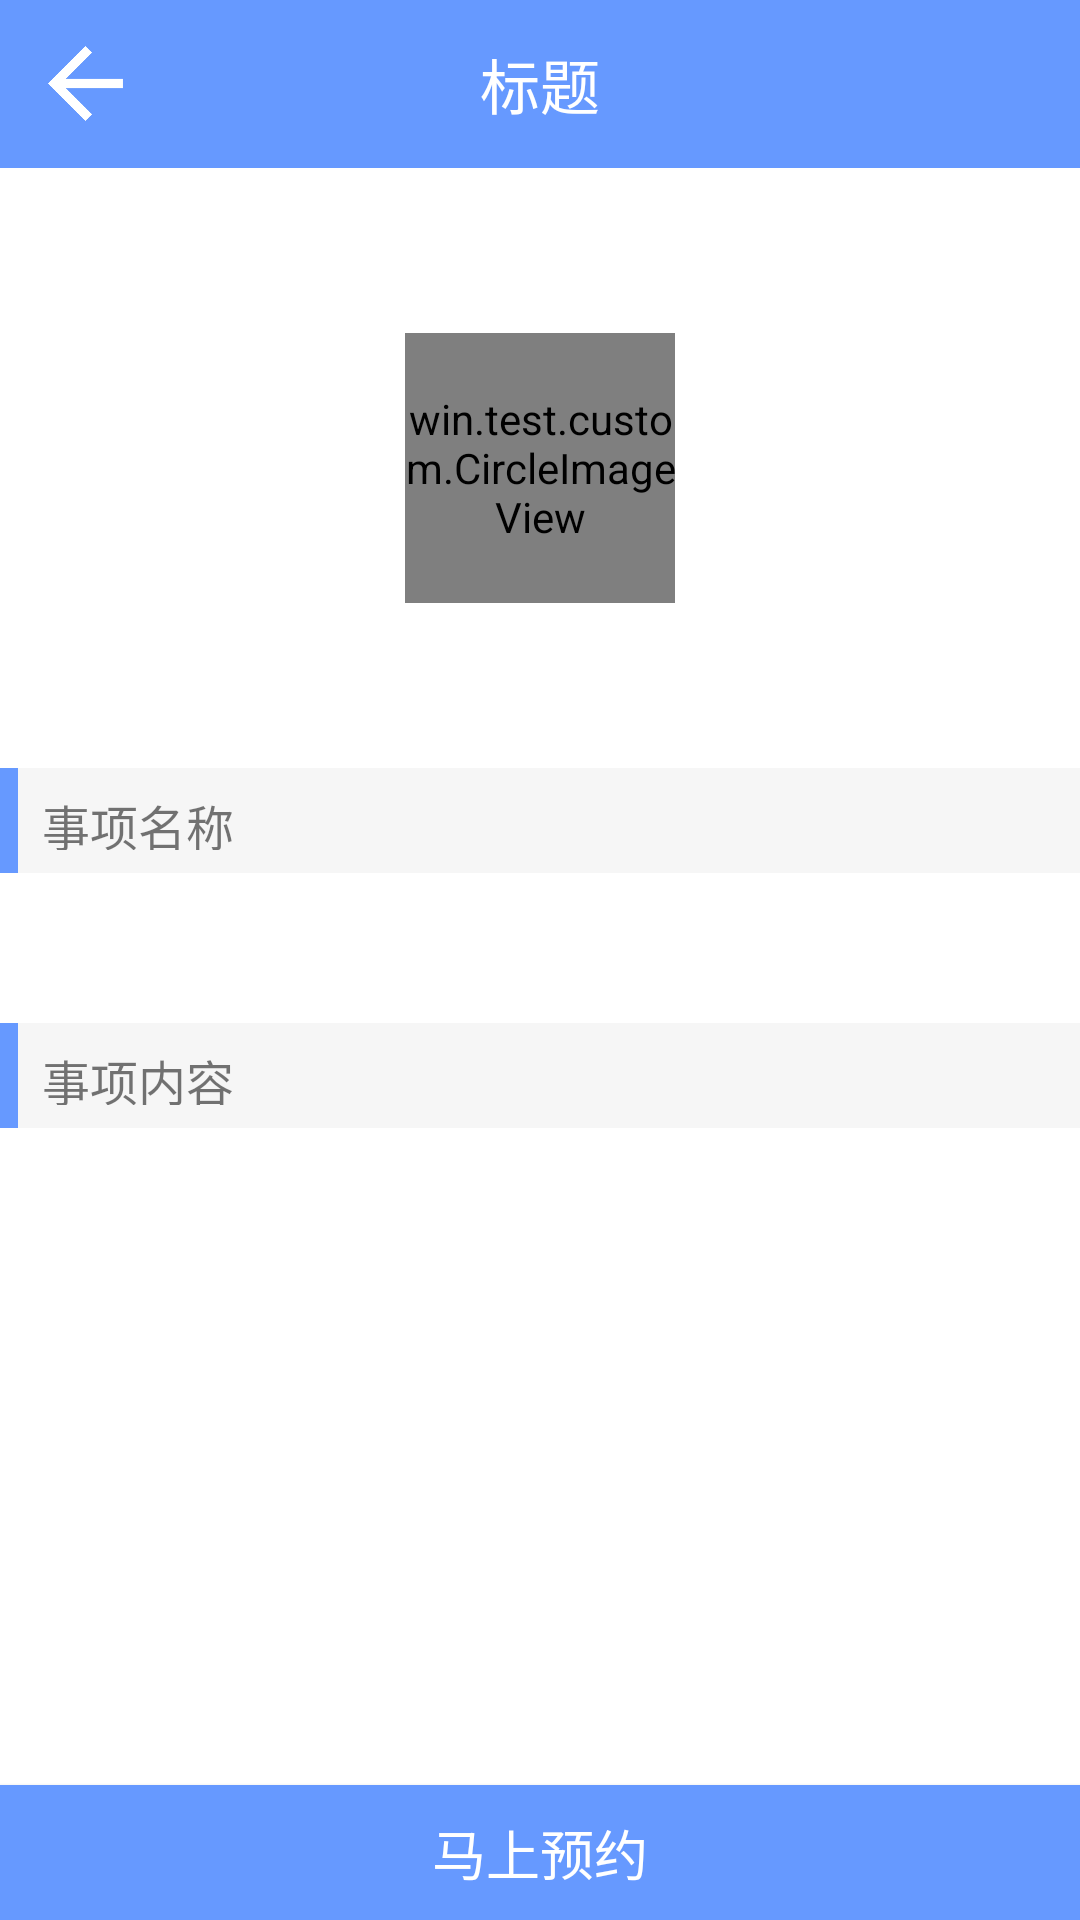

Icon bounding boxes for this 1080 × 1920 phone screenshot, format (x1, y1, x2, y2):
back: (48, 46, 123, 121)
